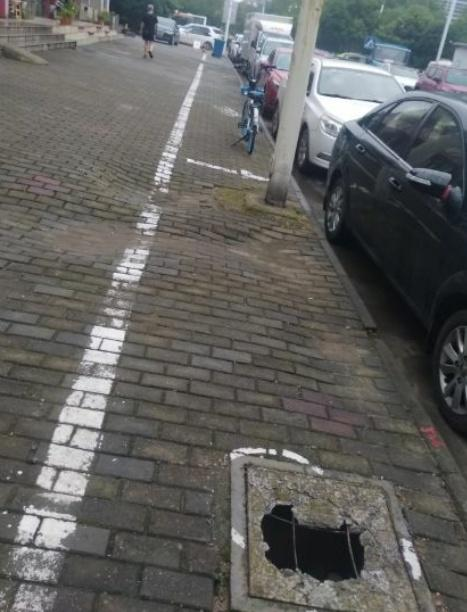wellcover: (226, 446, 435, 612)
